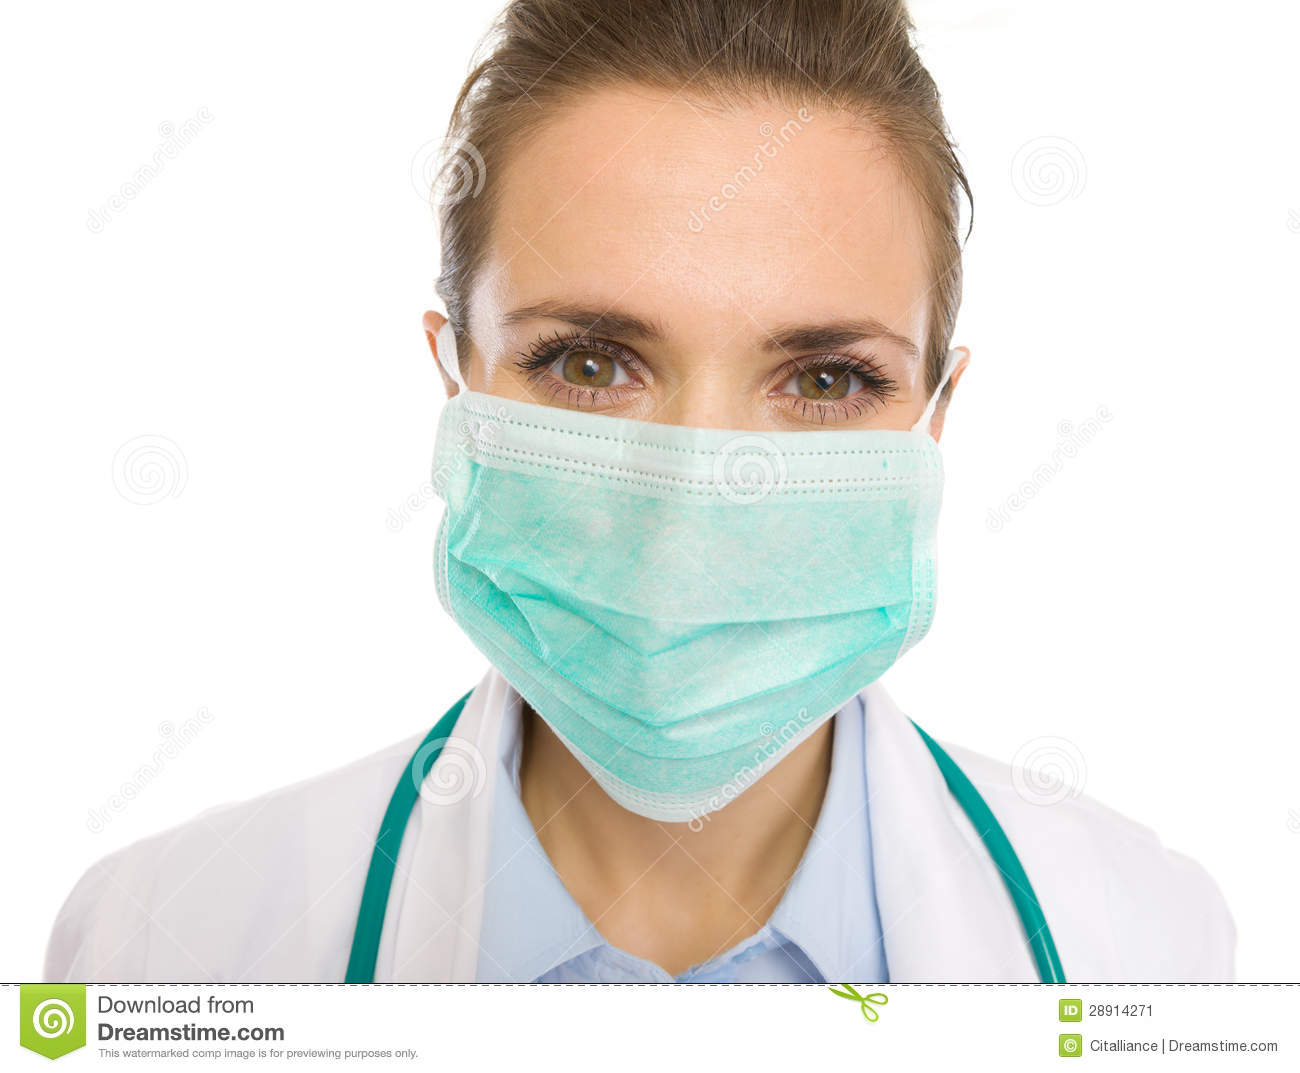mask: (416, 385, 942, 829)
